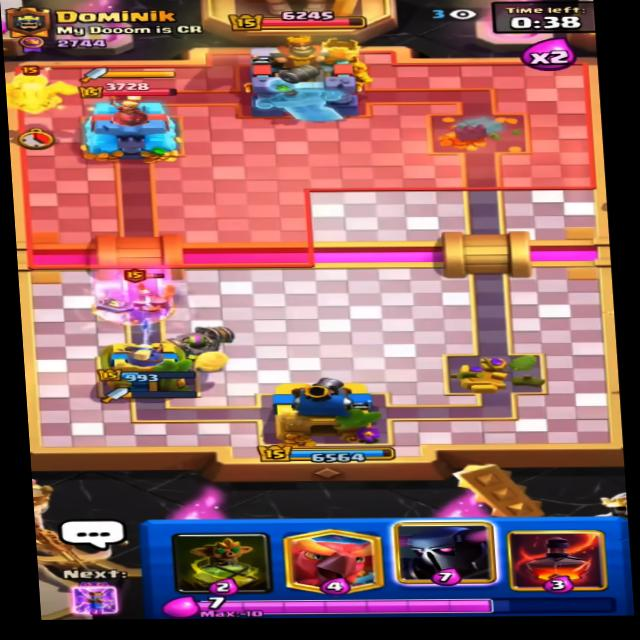guards: (136, 279, 176, 306)
inferno-dragon: (4, 62, 78, 116)
